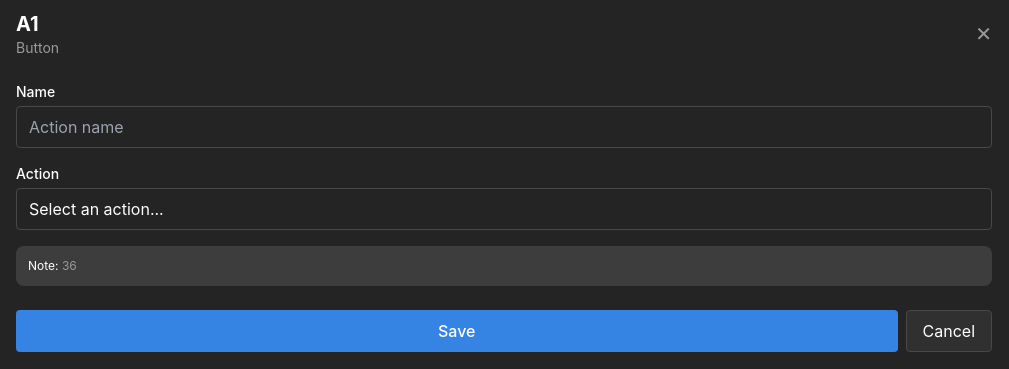
Test: ControlConfig › should revert to empty mapping when no existing mapping
Type "Temp" into the field with placeholder "Action name" at (504, 127), box [16,106,992,148]
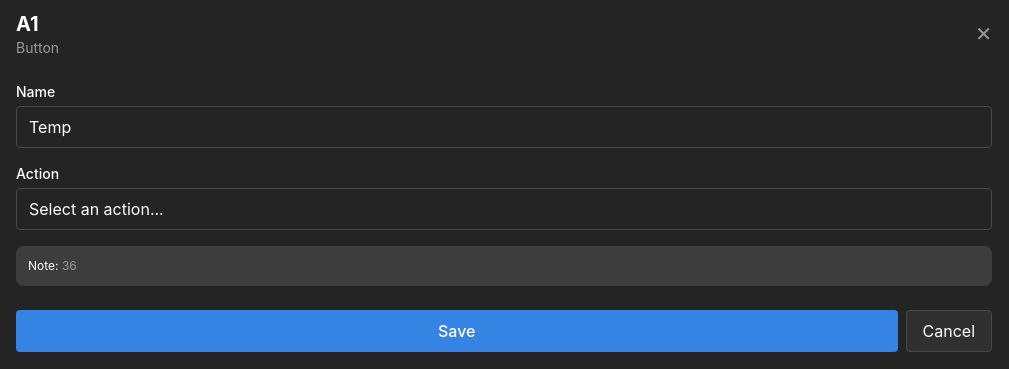
Click the button "Cancel" at (949, 331), box [906,310,992,352]
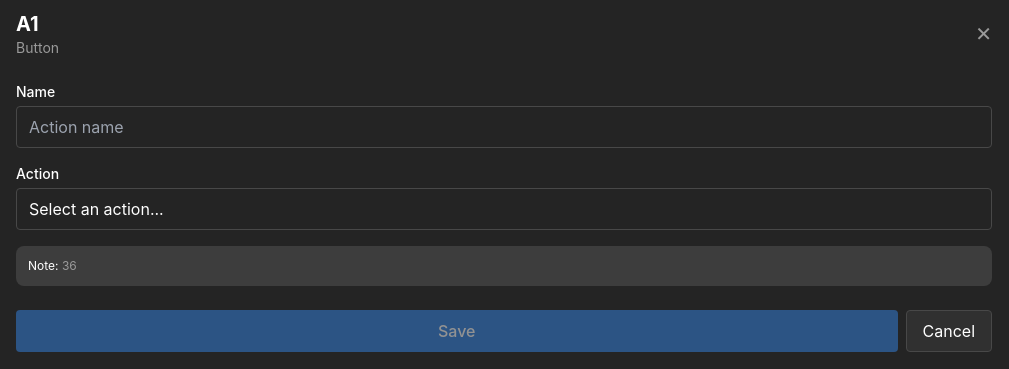
Check: the field with placeholder "Action name" is empty, box [16,106,992,148]
